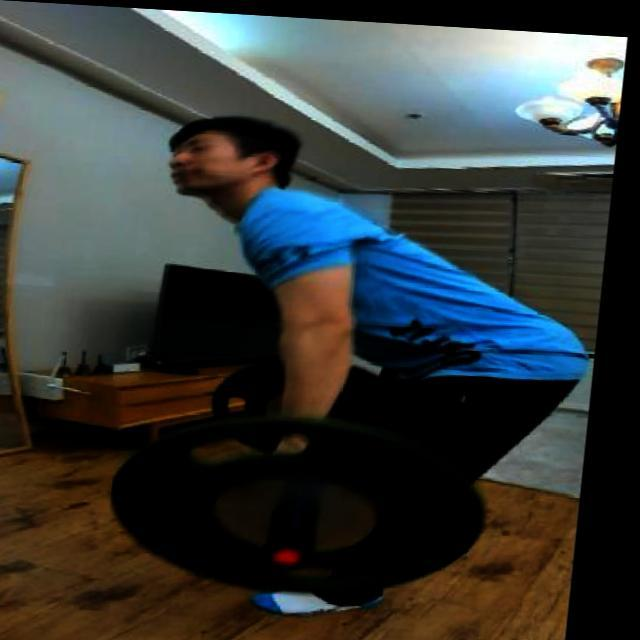barbell: (111, 399, 506, 610)
